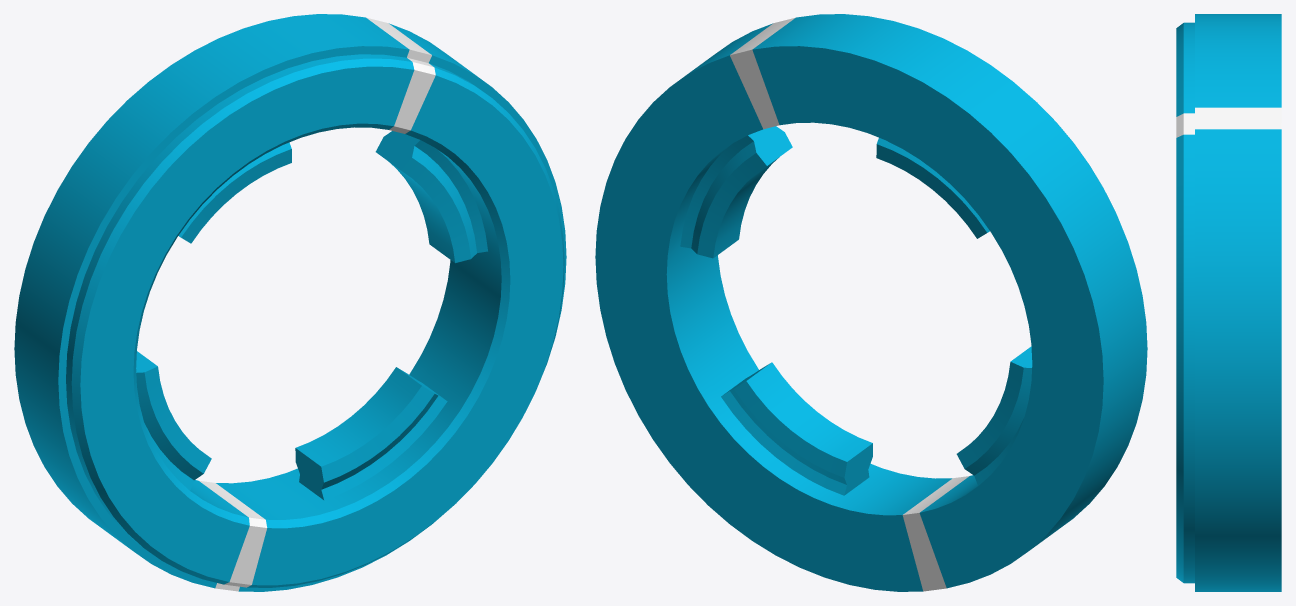
3 renders of one model, left to right at view 1: azimuth 30°, elevation 25°; view 2: azimuth 150°, elevation 25°; view 3: azimuth 270°, elevation 25°, orthographic.
Parts seen in each view (by area): view 1: 681; view 2: 681; view 3: 681.
Part boxes in pixels (x1,y1,x2,y2): 681: (14, 14, 566, 591); 681: (595, 14, 1147, 591); 681: (1176, 14, 1281, 591).
Bounding box in the file's own units: 863 × 863 × 157.
